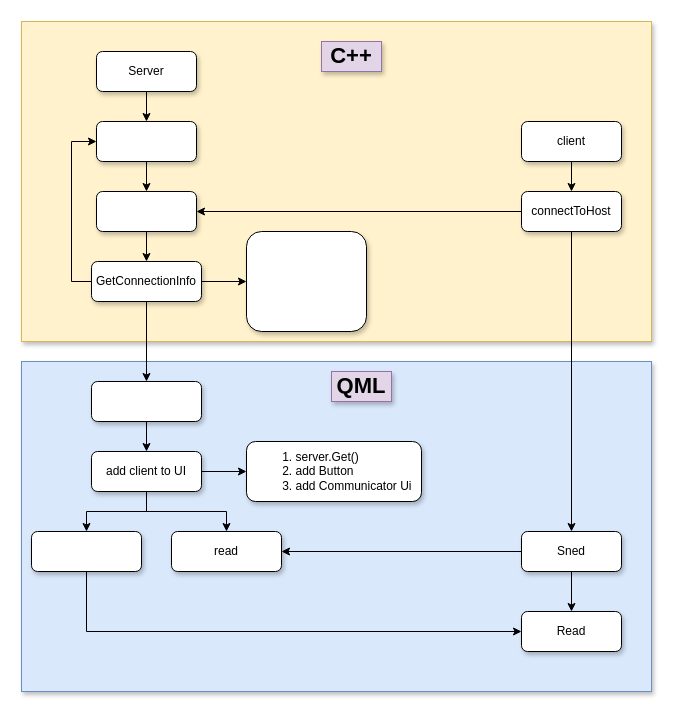
The diagram is 675 pixels wide and 716 high, and some of its shapes have lost their labels. The shapes that lost their labels are listed below. From the top down, each one's centre as x and y in pixels, then its label:
point 147,142: listen
point 147,212: NewConnection
point 307,282: QTcpSocket address port descriptor
point 147,402: connect come
point 87,552: send
